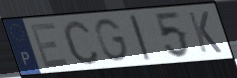5: (151, 9, 192, 59)
C: (61, 18, 102, 67)
E: (28, 20, 72, 69)
G: (94, 17, 131, 63)
I: (127, 13, 153, 63)
K: (186, 10, 224, 55)
